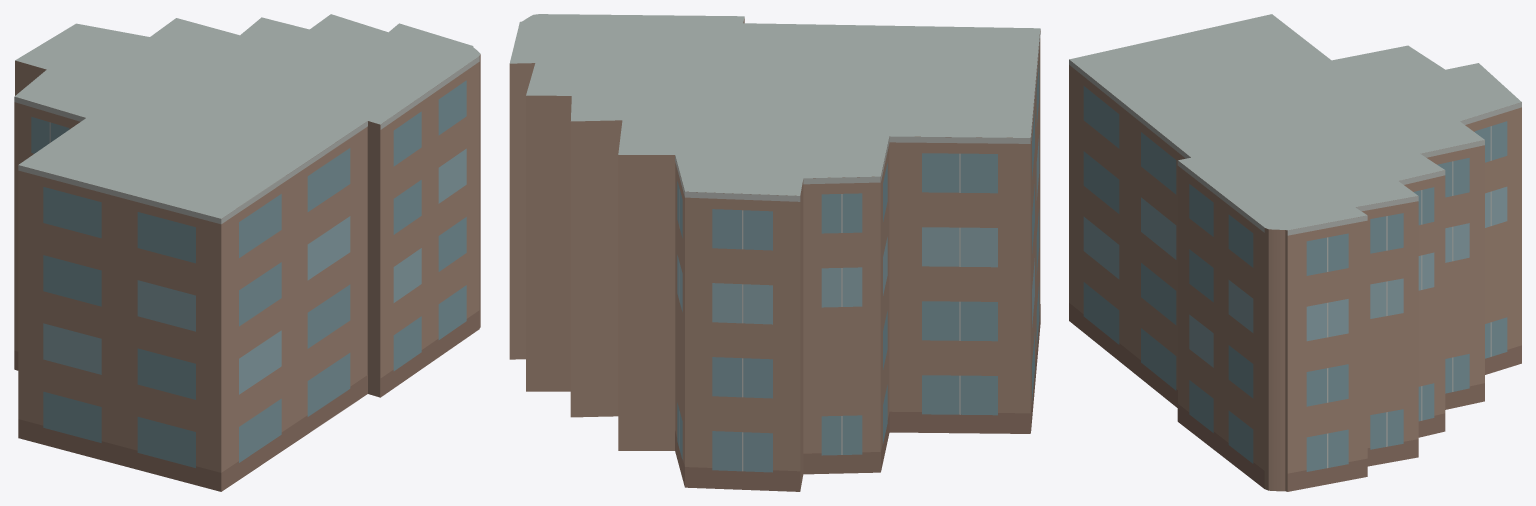
File: survey-upis-32683270.glb
3 views of the same model, side by side, from view 1: azimuth 30°, elevation 25°; view 2: azimuth 150°, elevation 25°; view 3: azimuth 270°, elevation 25° (orthographic). The views are drawn at different scales.
Parts seen in each view (by area): view 1: survey-upis-32683270.tmp; view 2: survey-upis-32683270.tmp; view 3: survey-upis-32683270.tmp.
Boxes of the visible parts, left/top/right/bottom form: survey-upis-32683270.tmp: left=14, top=14, right=480, bottom=491; survey-upis-32683270.tmp: left=509, top=14, right=1040, bottom=491; survey-upis-32683270.tmp: left=1069, top=14, right=1521, bottom=491.
Size of the model in its own units: 21.49 by 12.1 by 19.
